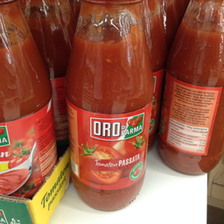tomato_sauce: (65, 1, 154, 211), (159, 1, 224, 178), (1, 1, 58, 201)
